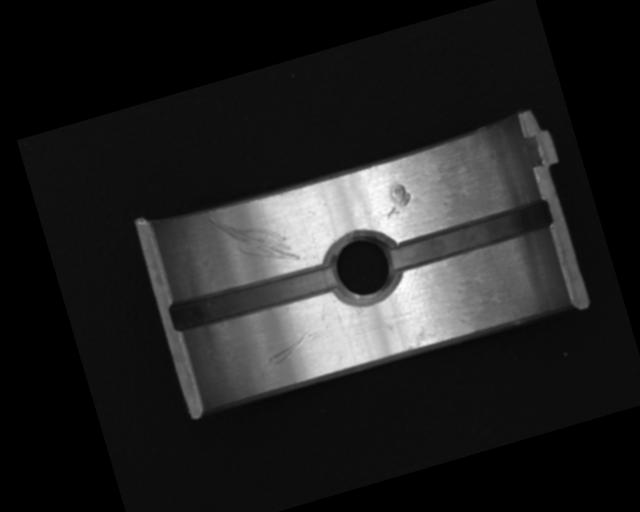bruise: (379, 181, 415, 219)
gap: (168, 257, 340, 336), (386, 199, 554, 274)
hole: (323, 226, 405, 310)
nick: (208, 195, 301, 280), (264, 328, 320, 367)
